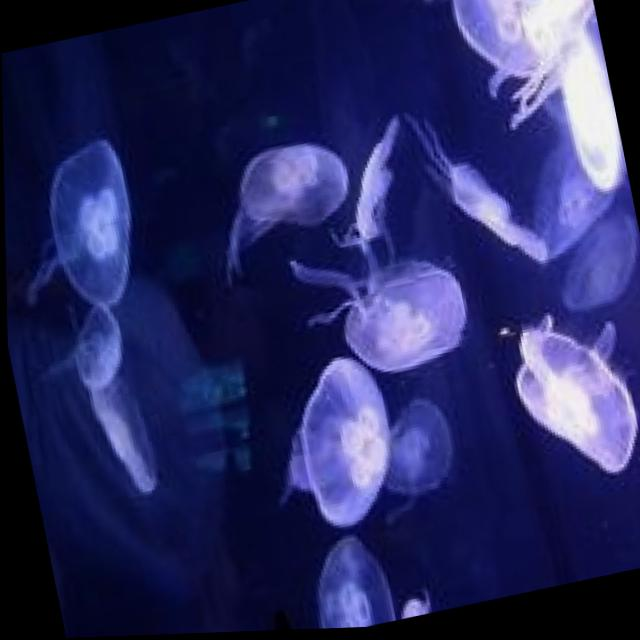Moon-jellyfish: (281, 109, 496, 407), (187, 105, 392, 318), (2, 101, 186, 338), (247, 349, 414, 549), (495, 296, 640, 494)
